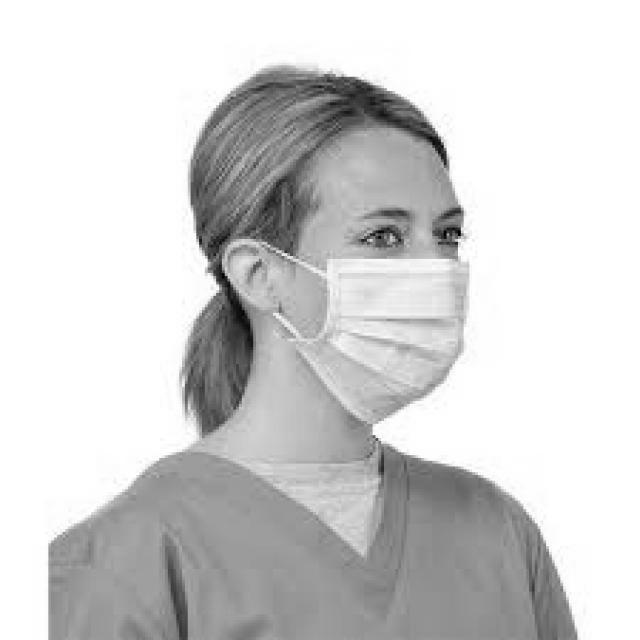fake: (291, 255, 477, 427)
real: (297, 122, 471, 435)
